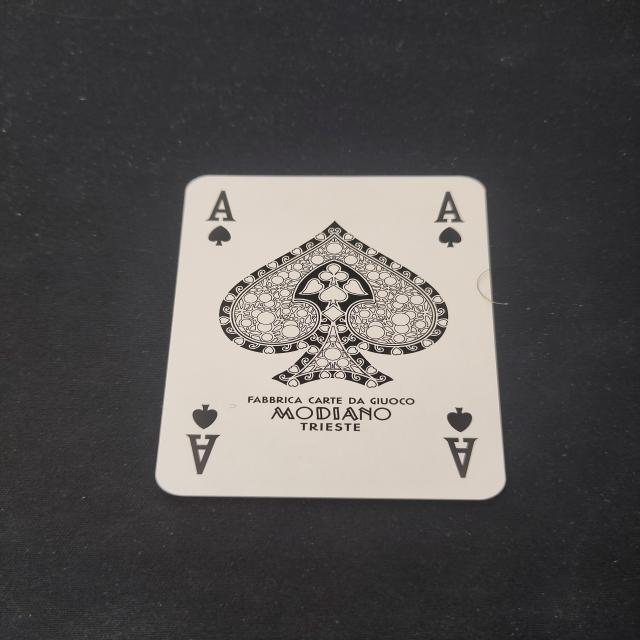As: (174, 396, 238, 476), (437, 400, 493, 490), (426, 186, 468, 256), (198, 183, 241, 250)
